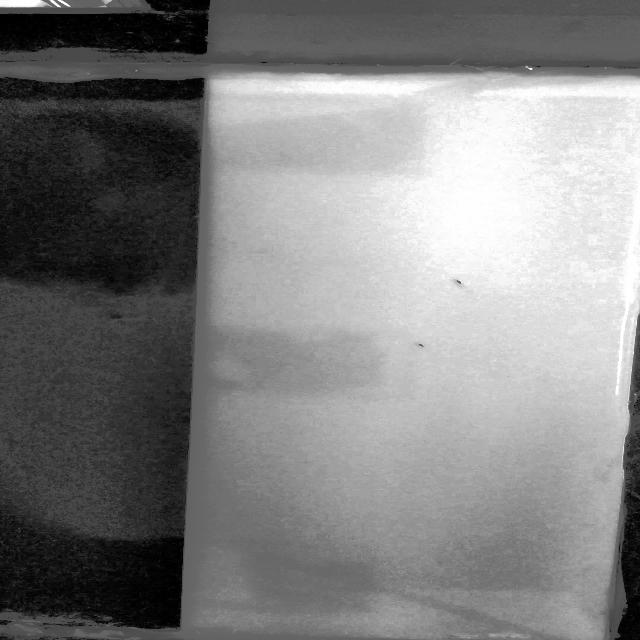shrimp: (404, 336, 439, 352), (451, 275, 475, 291)
